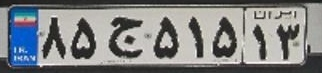character: (101, 12, 149, 60), (149, 11, 182, 59), (211, 12, 242, 62), (68, 12, 99, 61), (40, 13, 69, 62), (182, 12, 210, 60), (273, 21, 303, 62), (248, 23, 270, 62)
